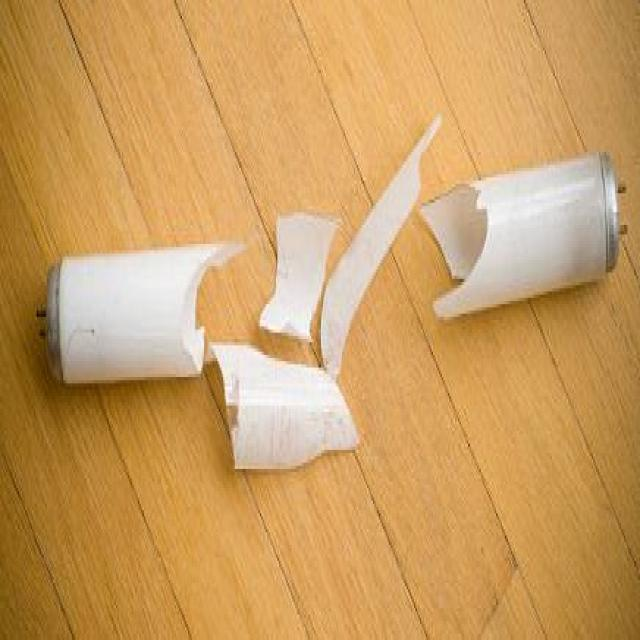electronic: (40, 111, 443, 472), (418, 146, 621, 323), (42, 235, 246, 386)
